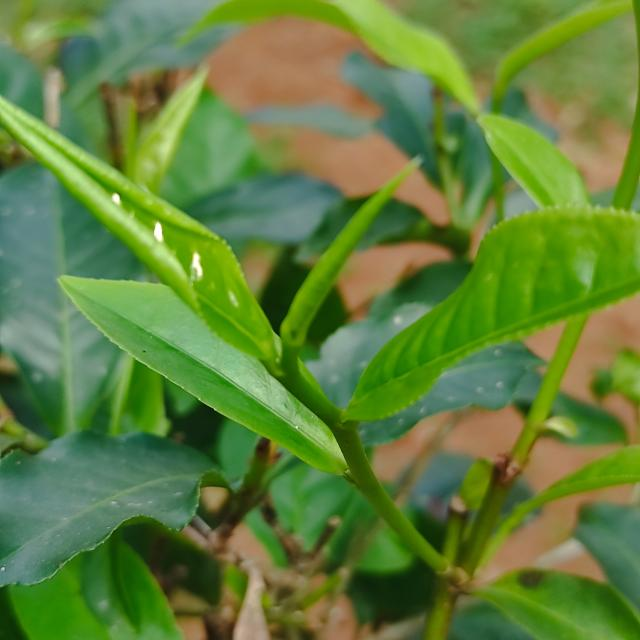unopened_leaf: (274, 153, 428, 374), (120, 92, 146, 184)
